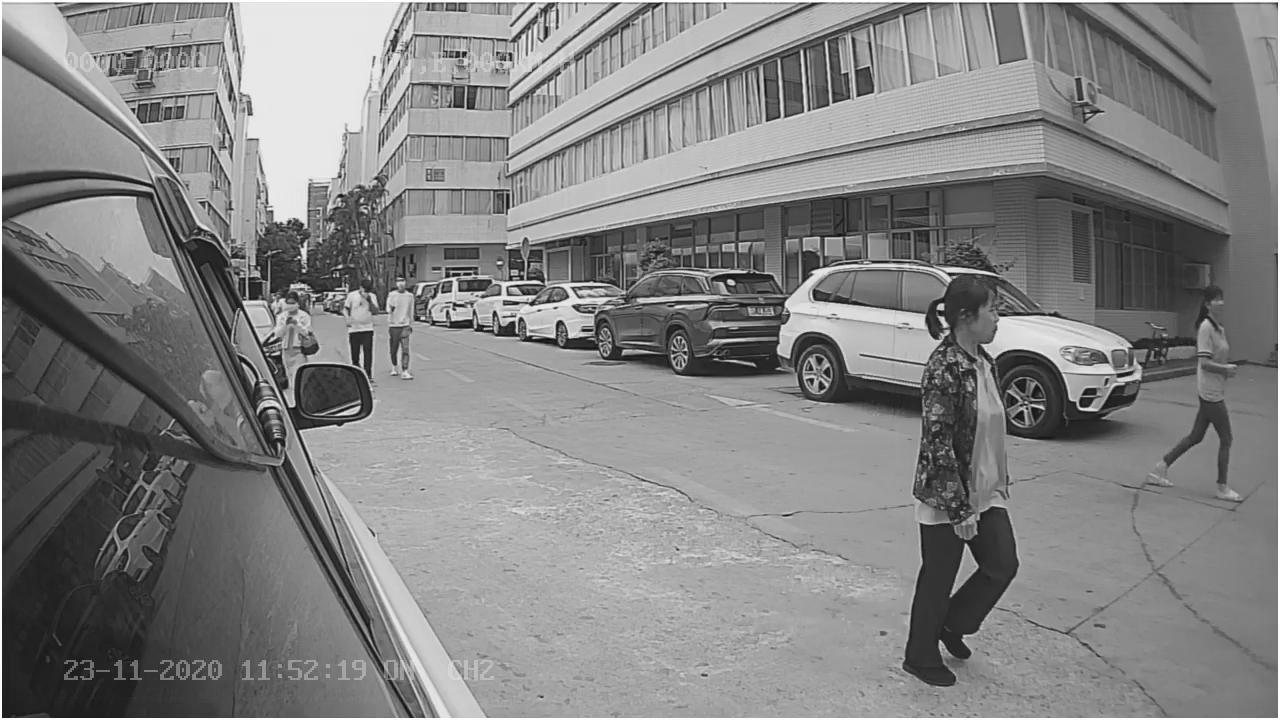person: (885, 268, 1032, 669)
